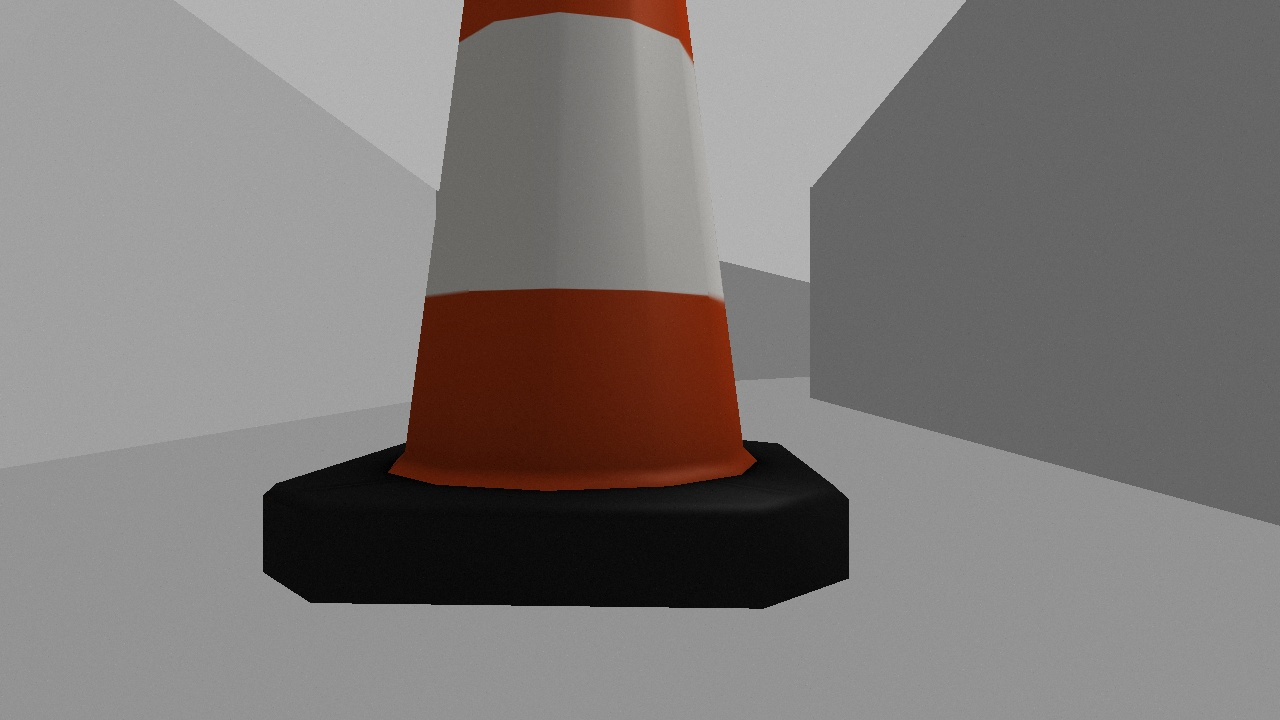barricade: (226, 1, 884, 639)
